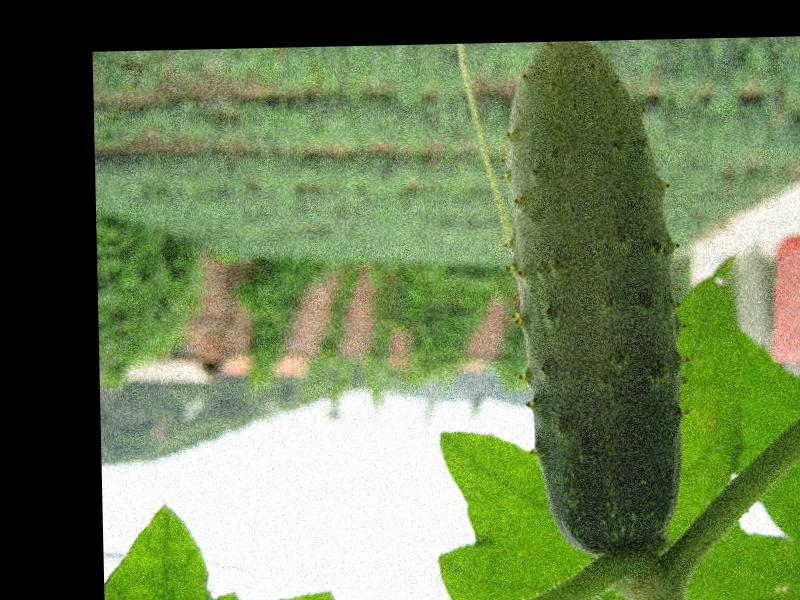Cucumber: (507, 40, 683, 555)
